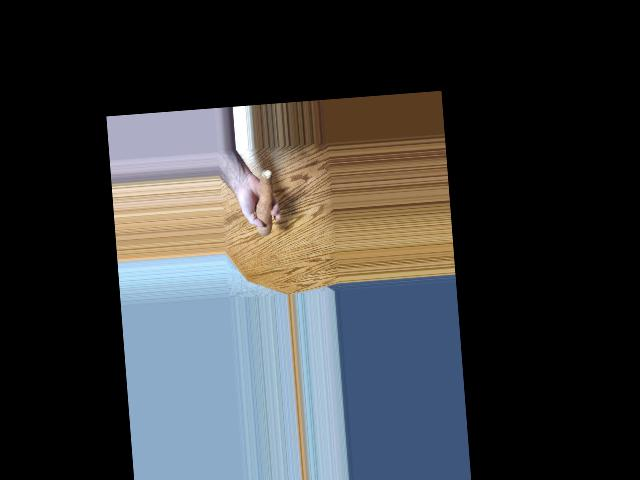sweet_potato: (251, 174, 277, 232)
